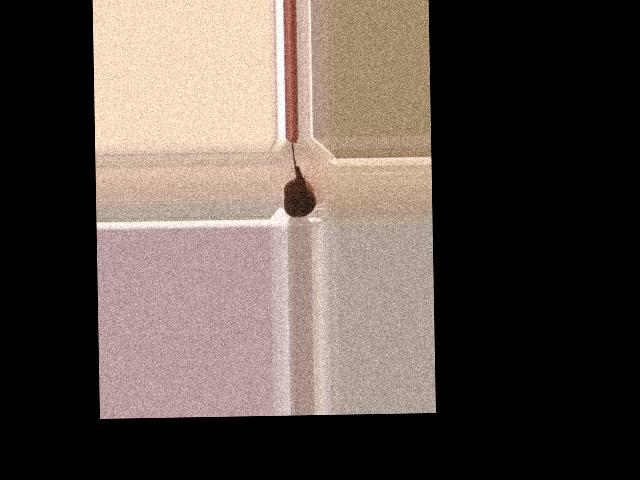beet: (283, 140, 316, 217)
